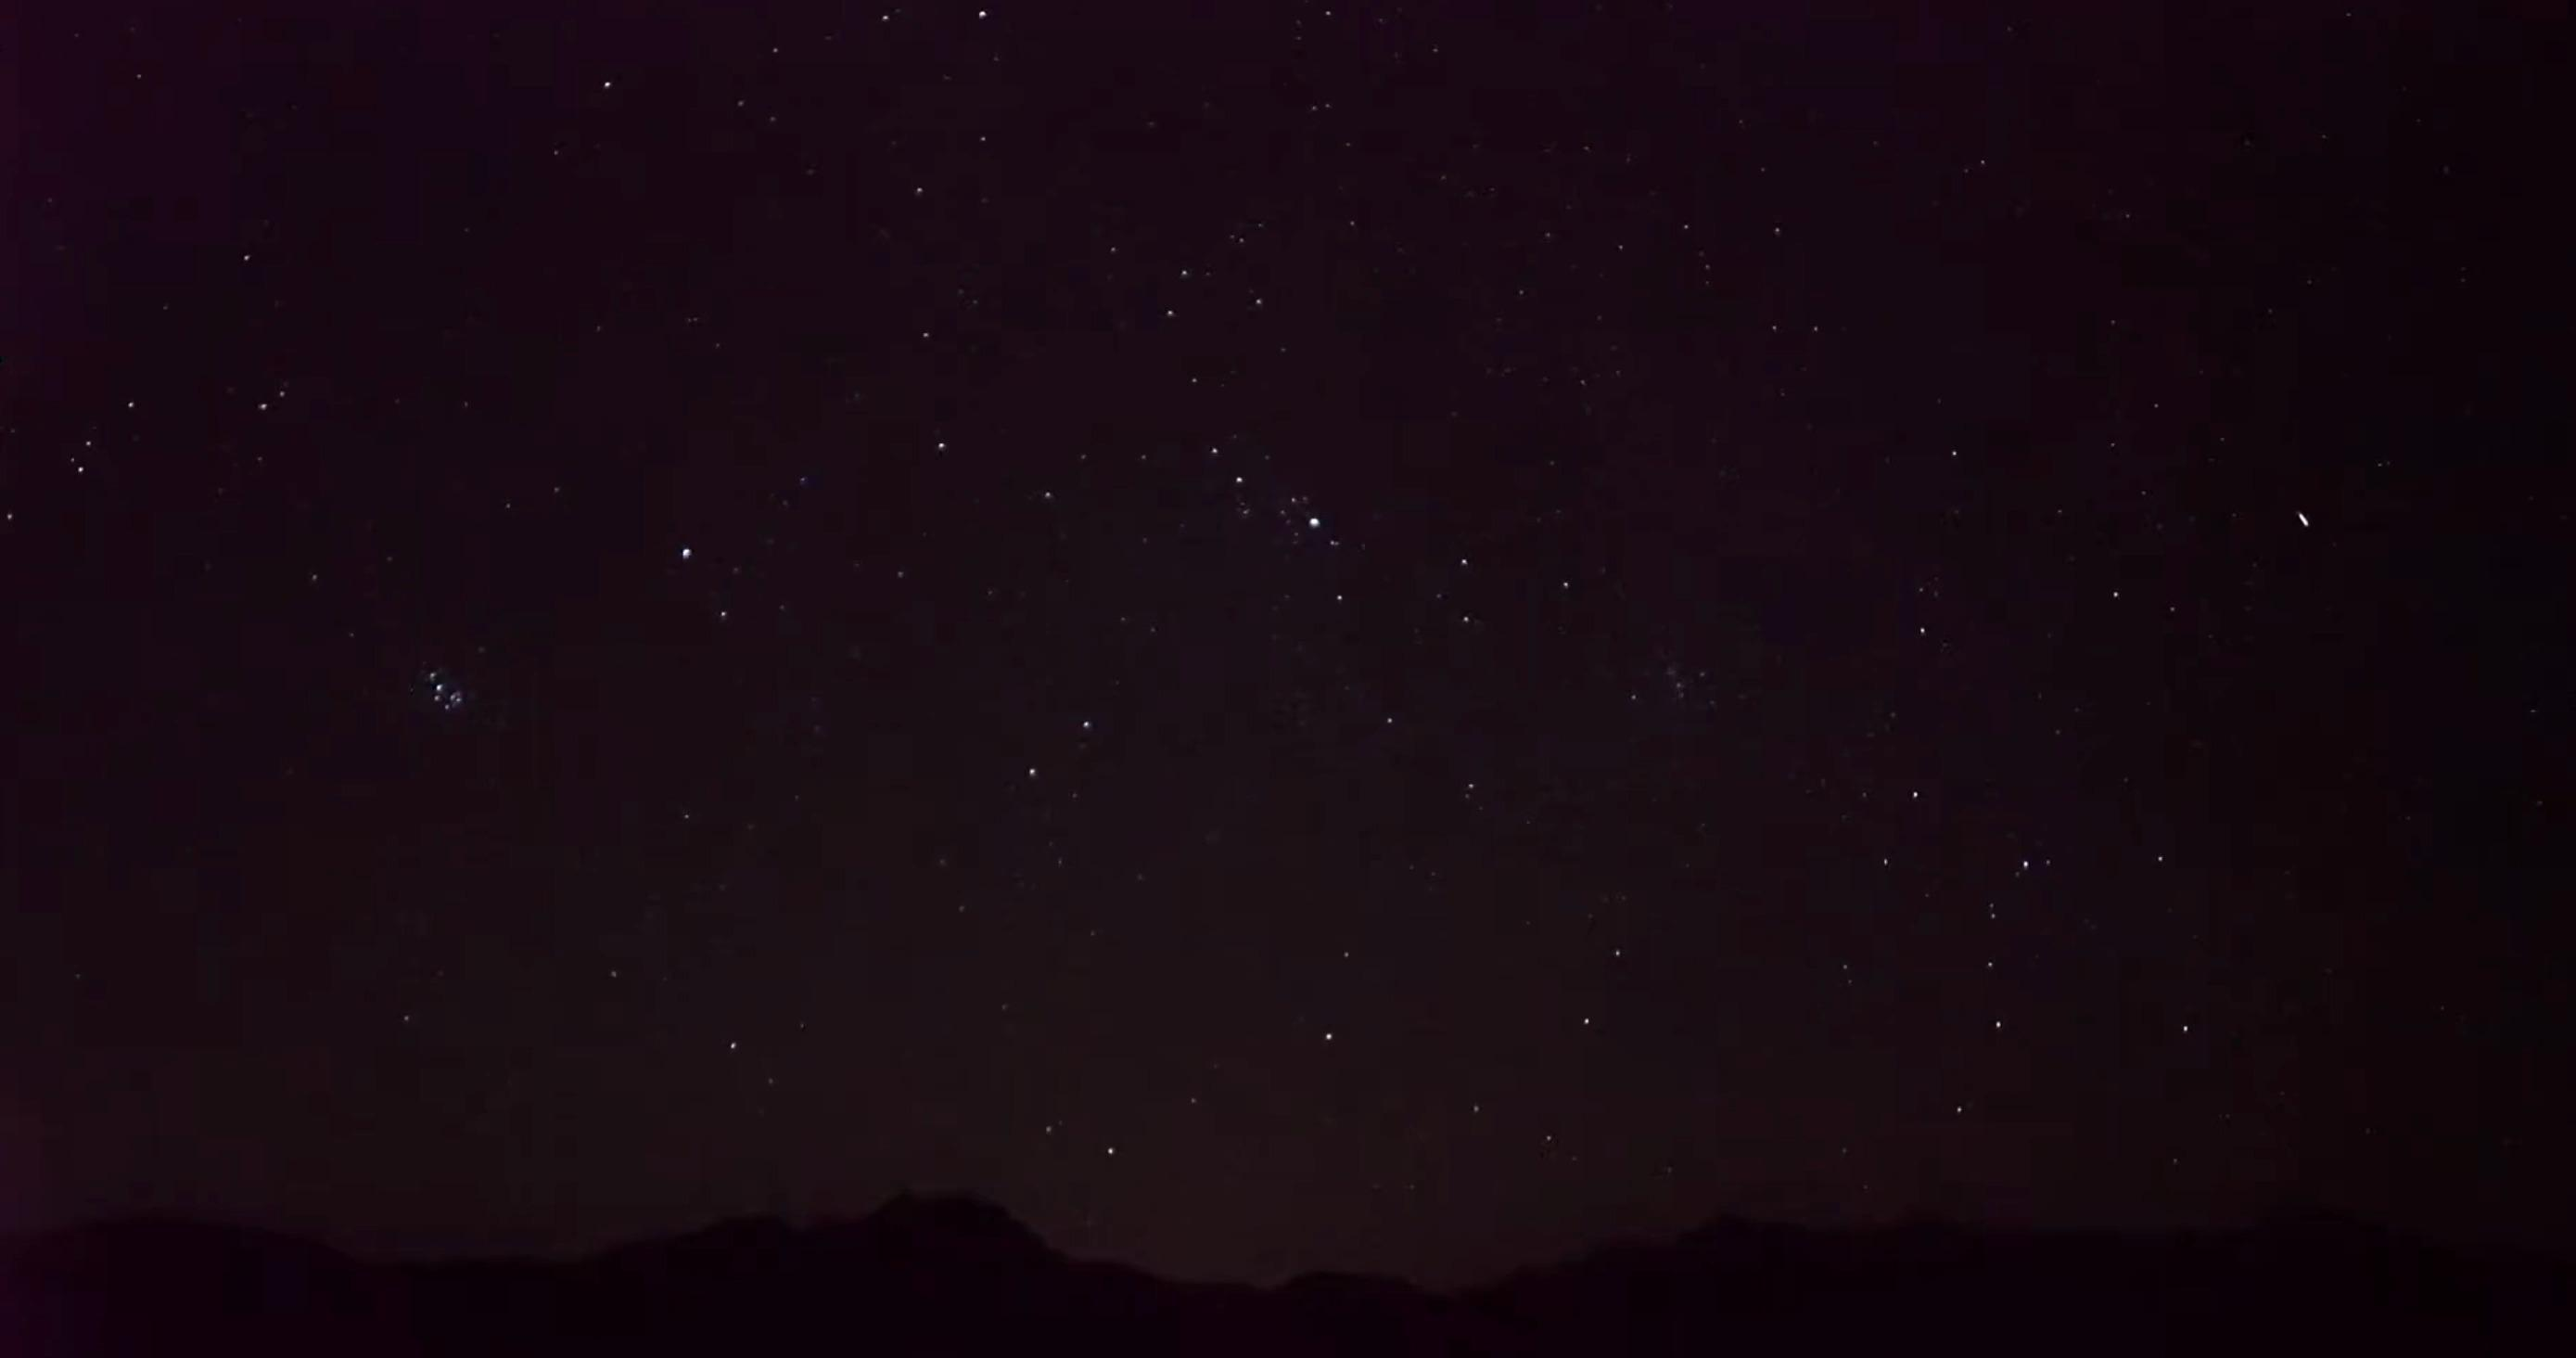meteorite: (2259, 496, 2349, 544)
